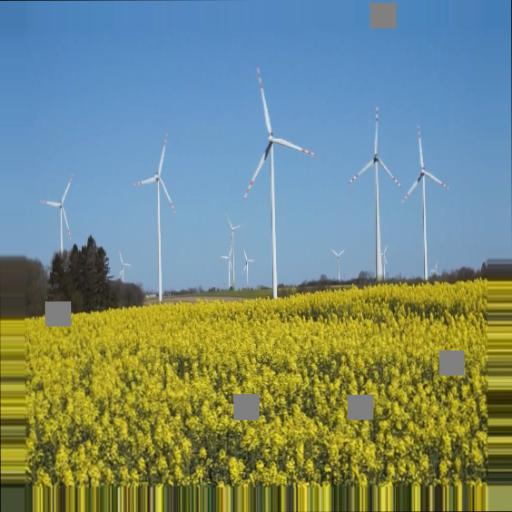wind turbine: (241, 62, 318, 295), (347, 106, 404, 279), (130, 133, 178, 306), (402, 125, 449, 282), (42, 178, 72, 258)
